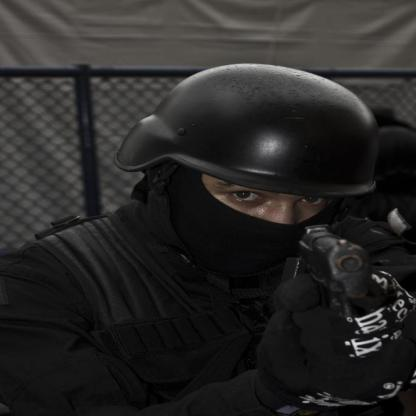Helmet: (118, 60, 394, 280)
